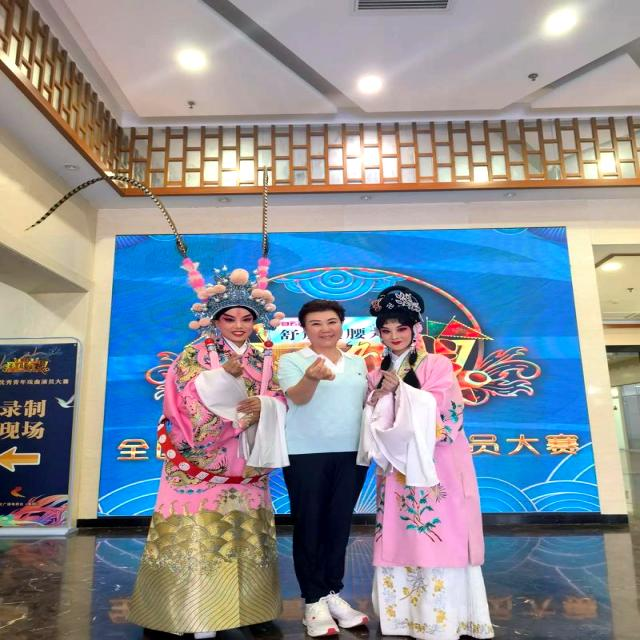Reeves-s Pheasant: (22, 177, 194, 247), (258, 148, 274, 258)
